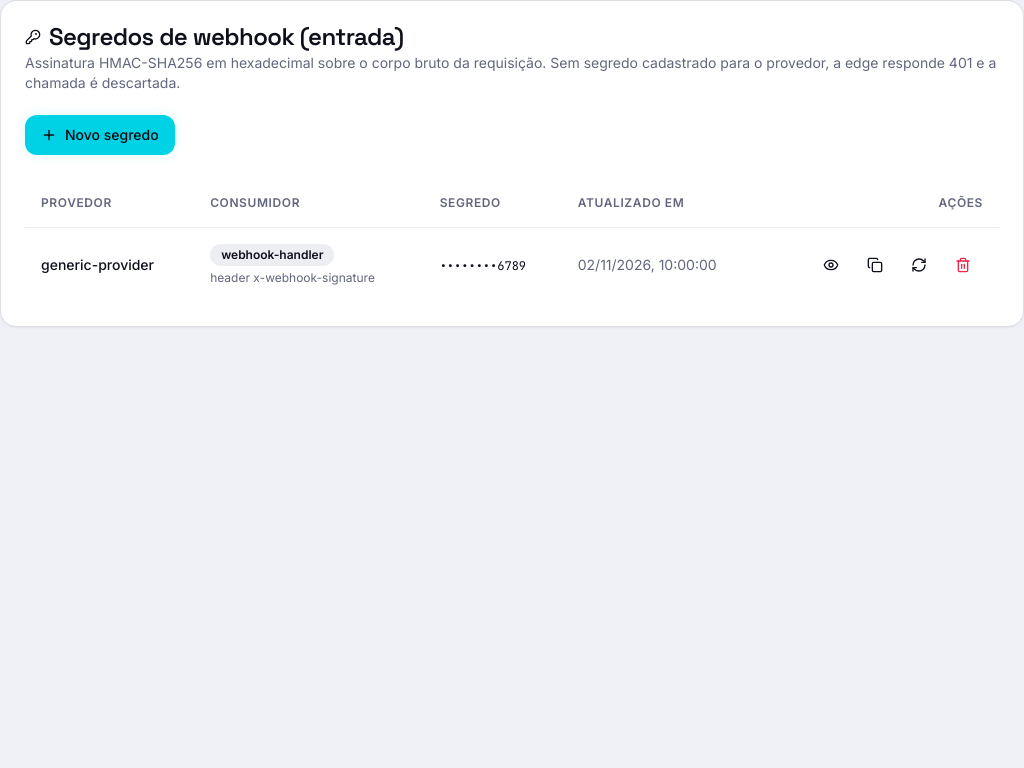
Test: WebhookSecretsCard › bloqueia o cadastro sem provedor e nao chama o banco
What coordinates should you click on to do the following:
click the button with aria-label "Cadastrar novo segredo de webhook"
I would click on:
 (100, 135)
Its box is [25,115,175,155].
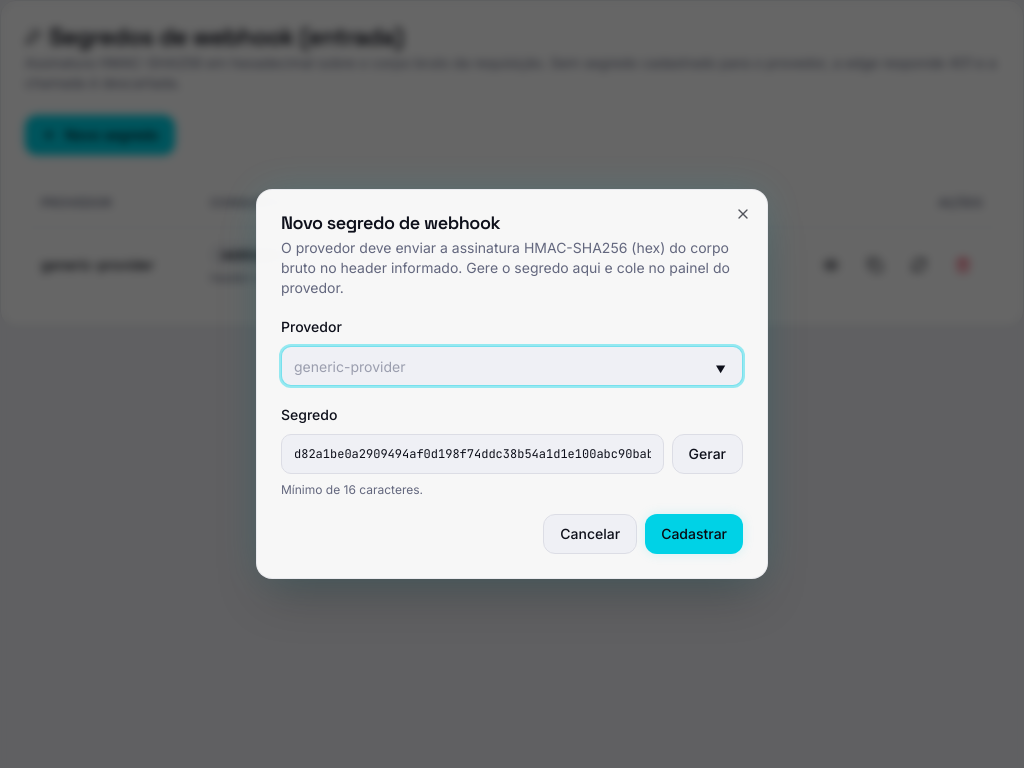
What coordinates should you click on to do the following:
click the button "Cadastrar"
I would click on:
 (694, 534)
Its box is [645,514,743,554].
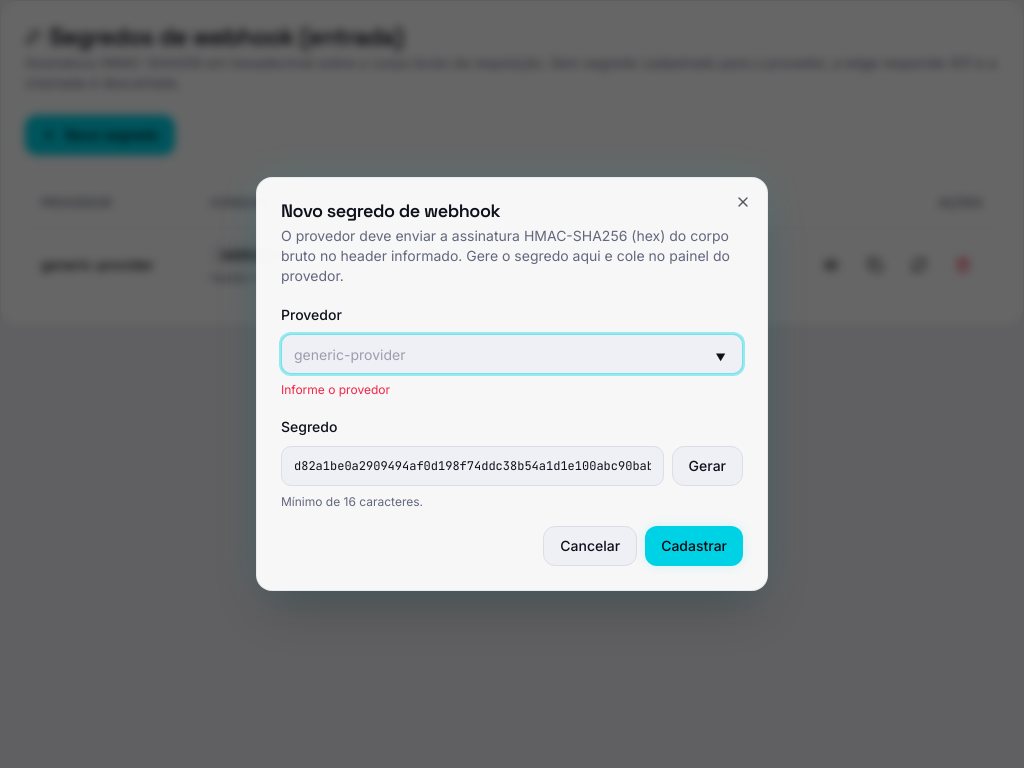
Expected: the text "Informe o provedor" is shown, [281,382,390,397]
